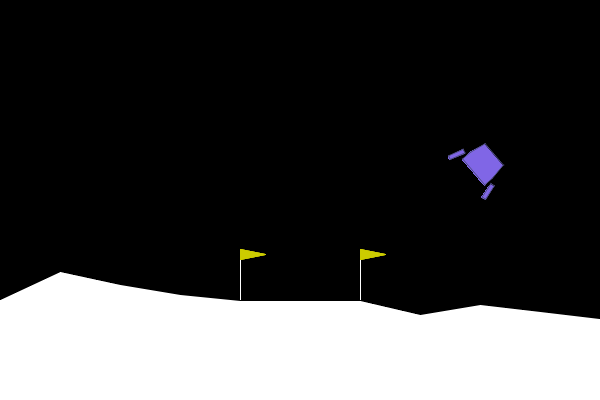lander: (445, 131, 515, 202)
